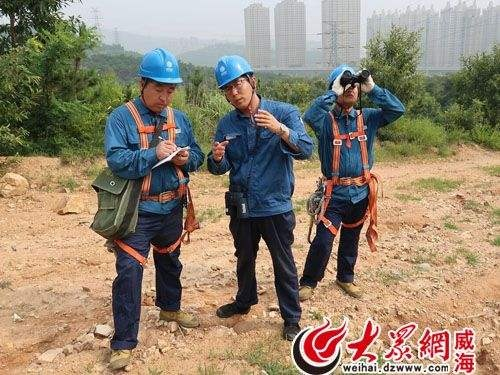blue: (136, 46, 181, 113), (215, 52, 256, 110), (328, 63, 359, 108)
